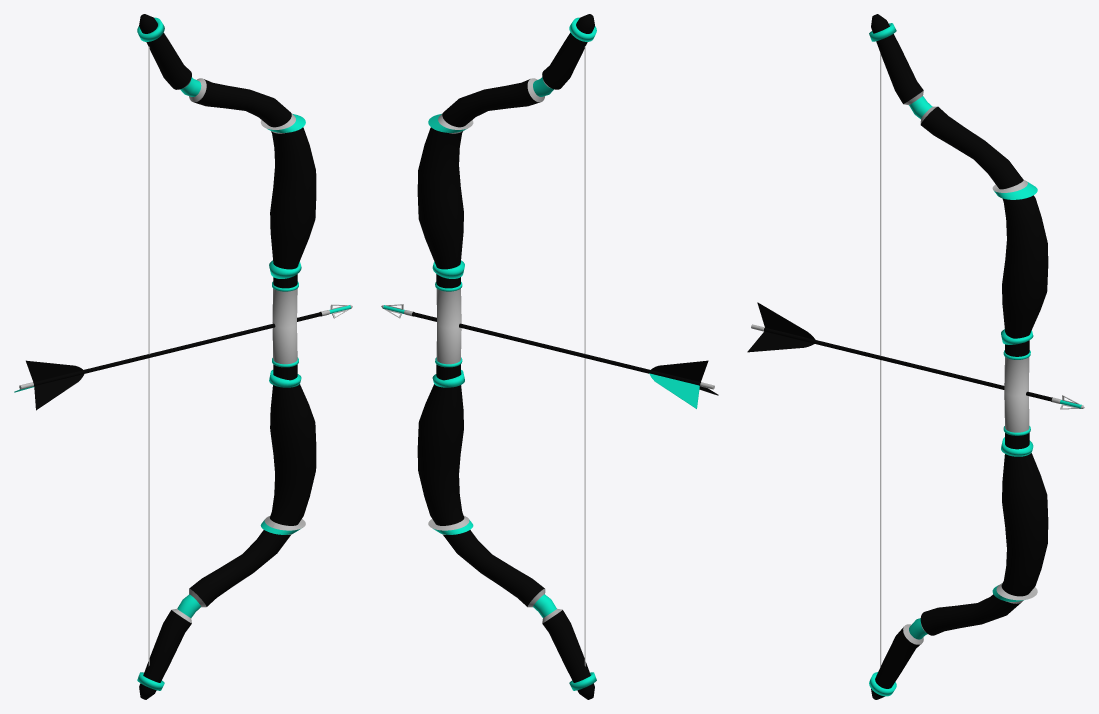
The model's file is arrow.fbx.
3 views of the same model, side by side, from view 1: azimuth 30°, elevation 25°; view 2: azimuth 150°, elevation 25°; view 3: azimuth 330°, elevation 25° (orthographic).
Parts seen in each view (by area): view 1: bow, arrow, bowString; view 2: bow, arrow, bowString; view 3: bow, arrow, bowString.
Part boxes in pixels (left/top/right/bottom): bow: left=137, top=14, right=316, bottom=699; arrow: left=14, top=304, right=352, bottom=410; bowString: left=148, top=46, right=149, bottom=666; bow: left=417, top=14, right=596, bottom=699; arrow: left=381, top=304, right=718, bottom=408; bowString: left=584, top=46, right=585, bottom=666; bow: left=869, top=14, right=1048, bottom=699; arrow: left=747, top=302, right=1084, bottom=409; bowString: left=880, top=53, right=881, bottom=666.
Size of the model in its own units: 137 by 270 by 16.51.
